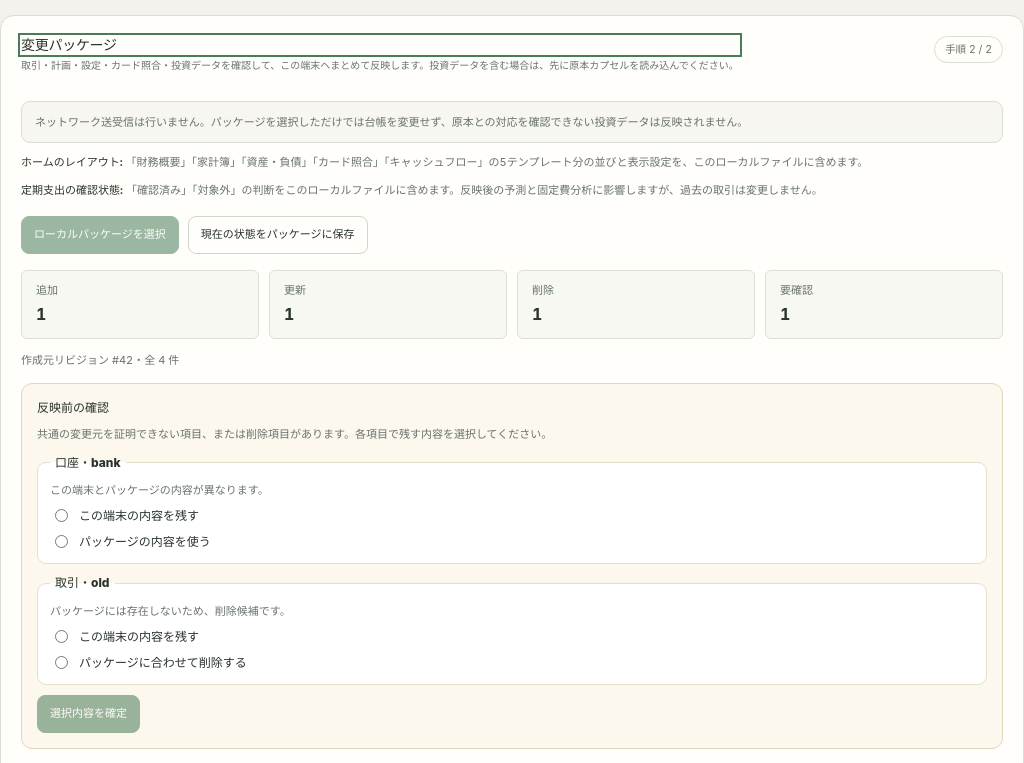
Test: LocalChangePackagePanel › states the local-only workflow and requires an explicit choice for every risky item
The image size is (1024, 763).
Expected: the heading "反映前の確認" is shown, [37,400,109,415]
Expected: the text "ネットワーク送受信は行いません" is shown, [35,115,748,129]
Click the radio button labelled "パッケージの内容を使う" at (62, 542), box [55,535,68,548]
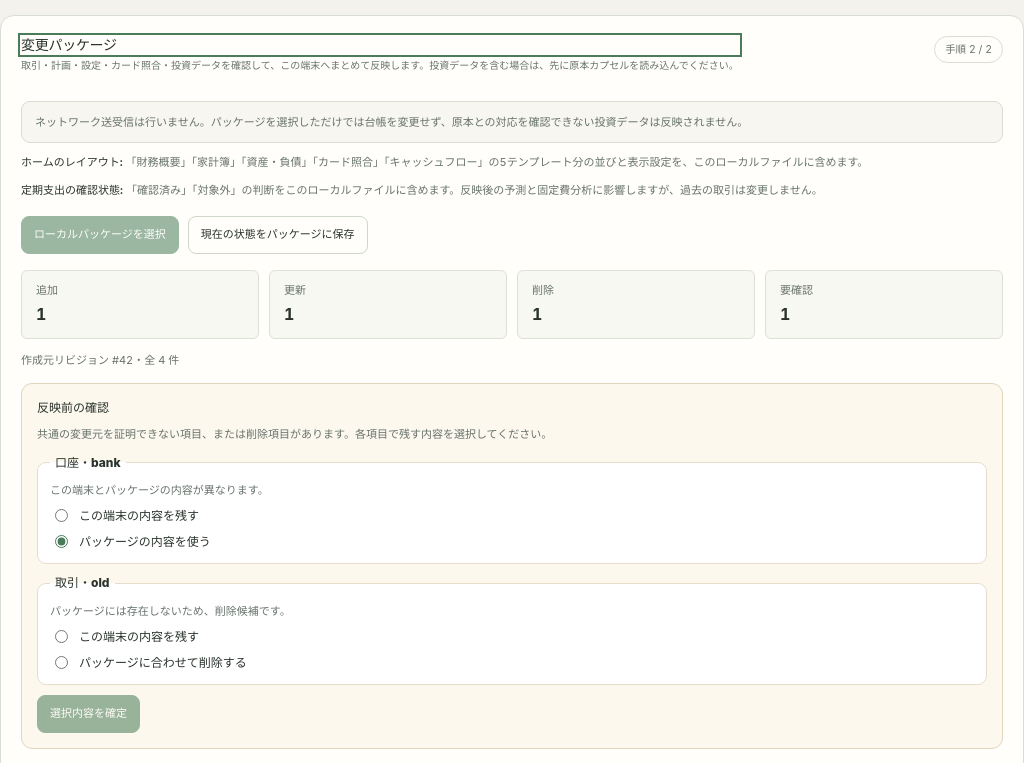
Click the radio button labelled "パッケージに合わせて削除する" at (62, 662), box [55,656,68,669]
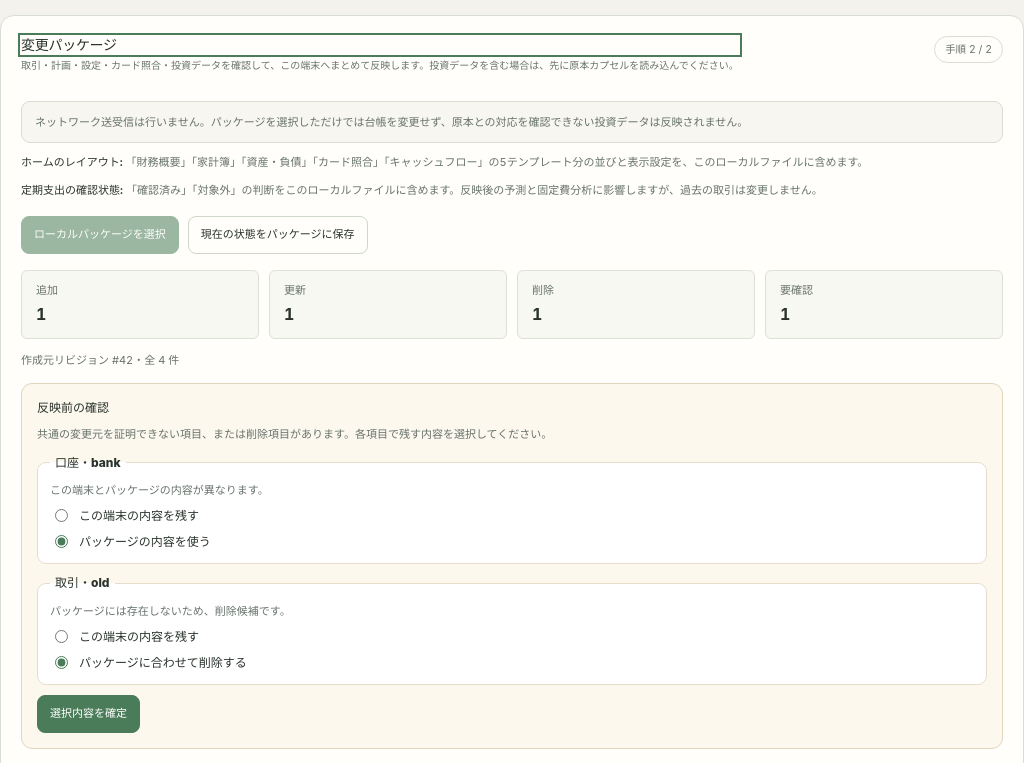
Now the button "選択内容を確定" is enabled
Click the button "選択内容を確定" at (88, 714), box [37,695,140,733]
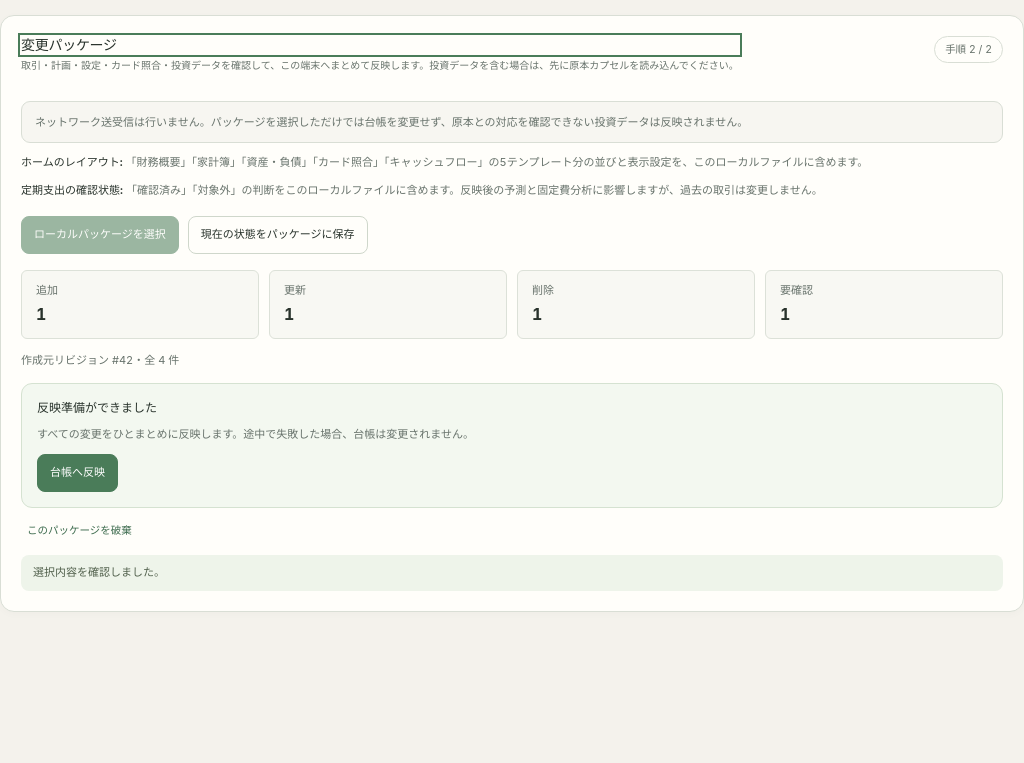
Now the heading "反映準備ができました" is shown, box [37,400,157,415]
